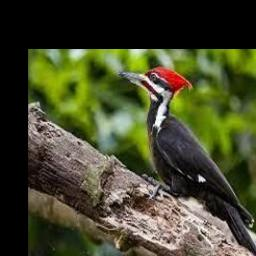Woodpecker: (118, 66, 256, 256)
